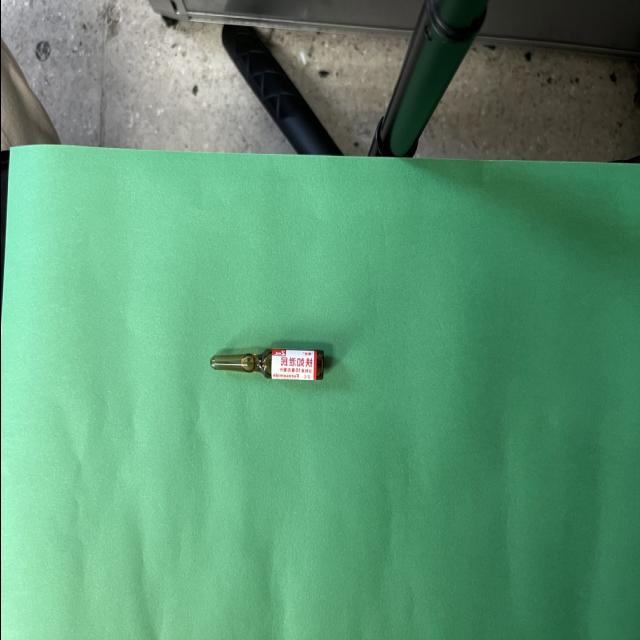Ampoules: (210, 348, 324, 381)
